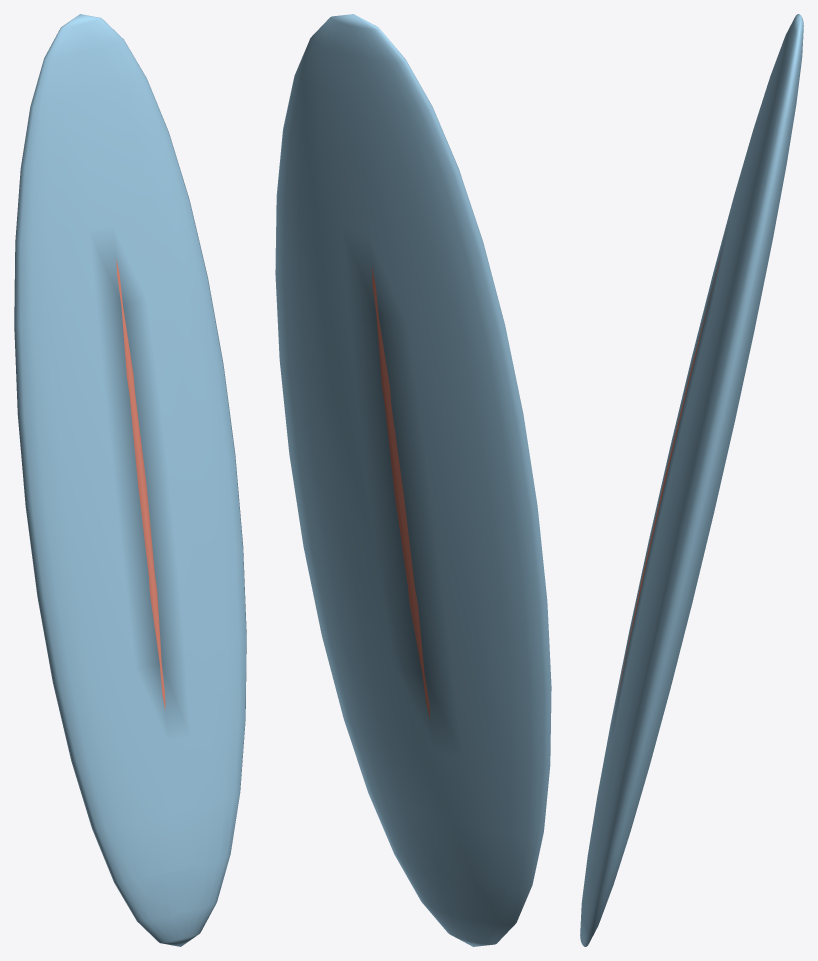
Rendered from gift-kai.glb.
3 renders of one model, left to right at view 1: azimuth 30°, elevation 25°; view 2: azimuth 150°, elevation 25°; view 3: azimuth 270°, elevation 25°, orthographic. The views are drawn at different scales.
Visible parts, largest first — view 1: gift-kai; view 2: gift-kai; view 3: gift-kai.
Part boxes in pixels (bbox=[...]): gift-kai: bbox=[14, 14, 246, 946]; gift-kai: bbox=[275, 14, 551, 946]; gift-kai: bbox=[580, 14, 803, 946].
Size of the model in its own units: 0.5 by 1.96 by 0.4269.
